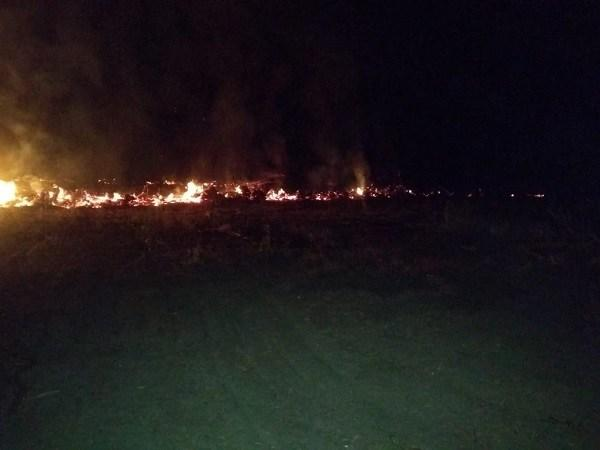fire: (0, 177, 23, 207), (176, 183, 206, 201)
